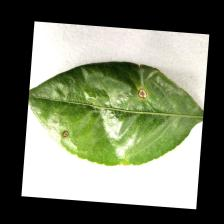canker: (120, 78, 172, 122)
